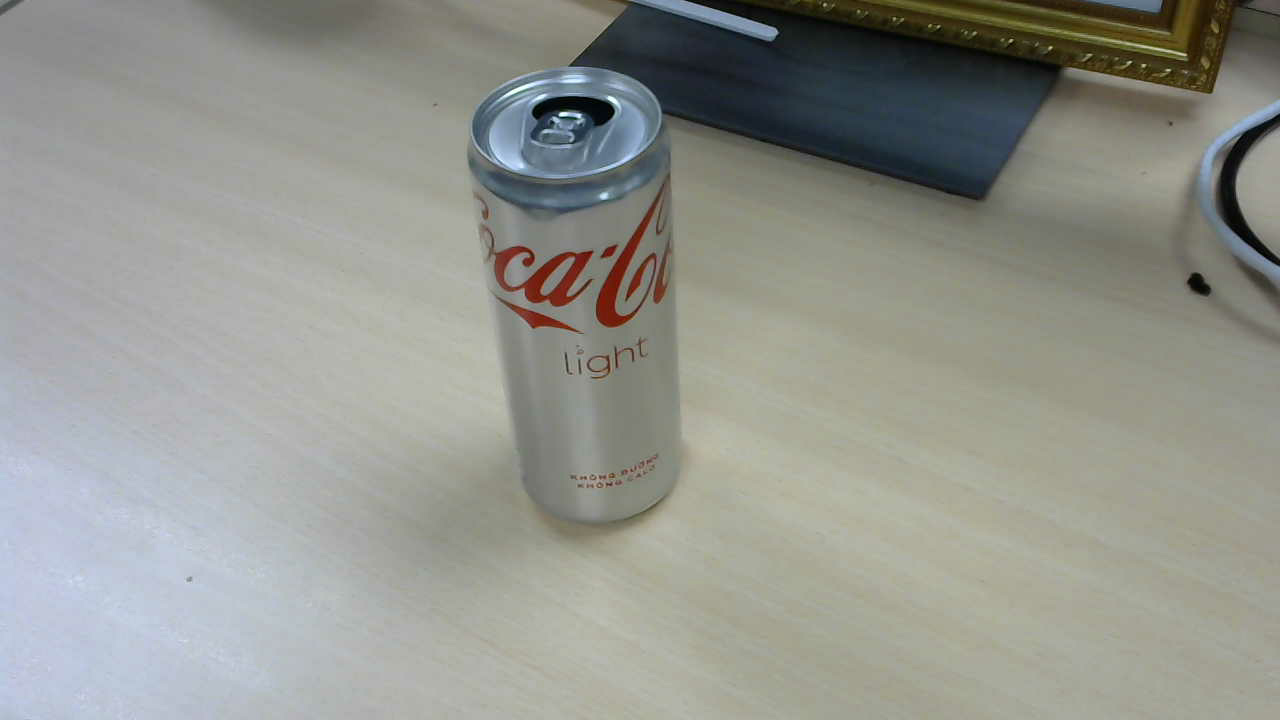Coca_Cola: (473, 71, 688, 532)
